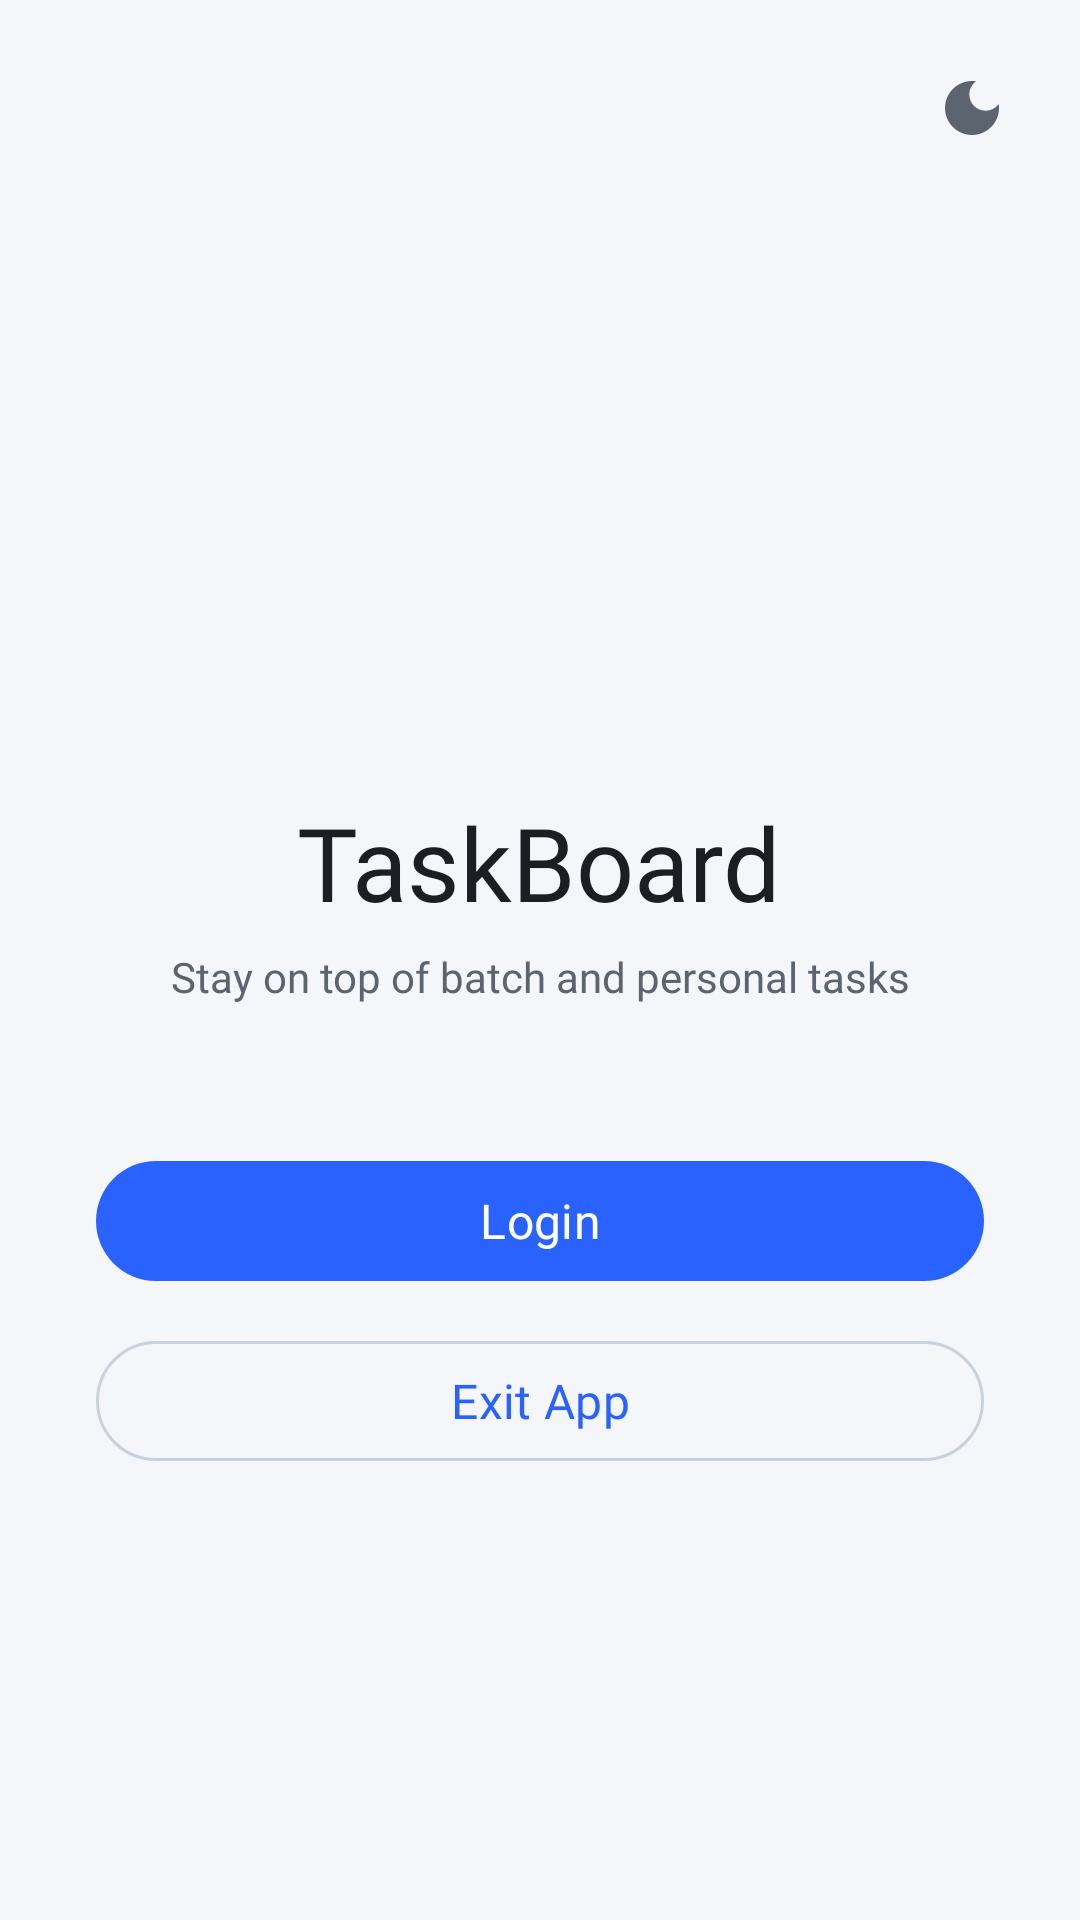

Screen size 1080w x 1920h. Icon name, then its box in pixels as (left=x1, top=y1, right=x2, bottom=y2):
Toggle dark mode: (left=945, top=81, right=999, bottom=135)
